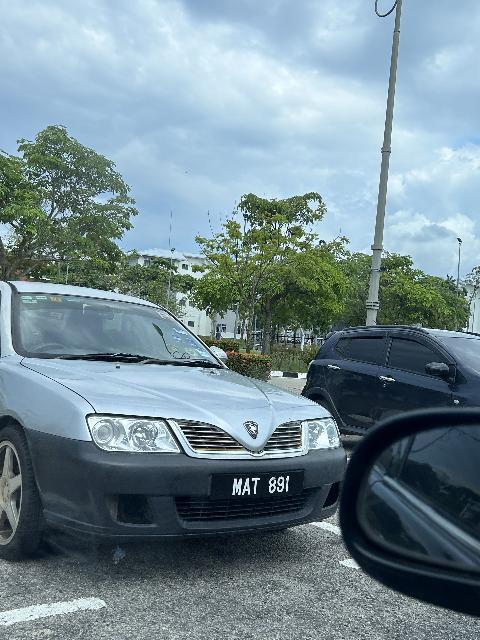License_Plate: (216, 473, 308, 498)
MAT891: (1, 269, 351, 553)
